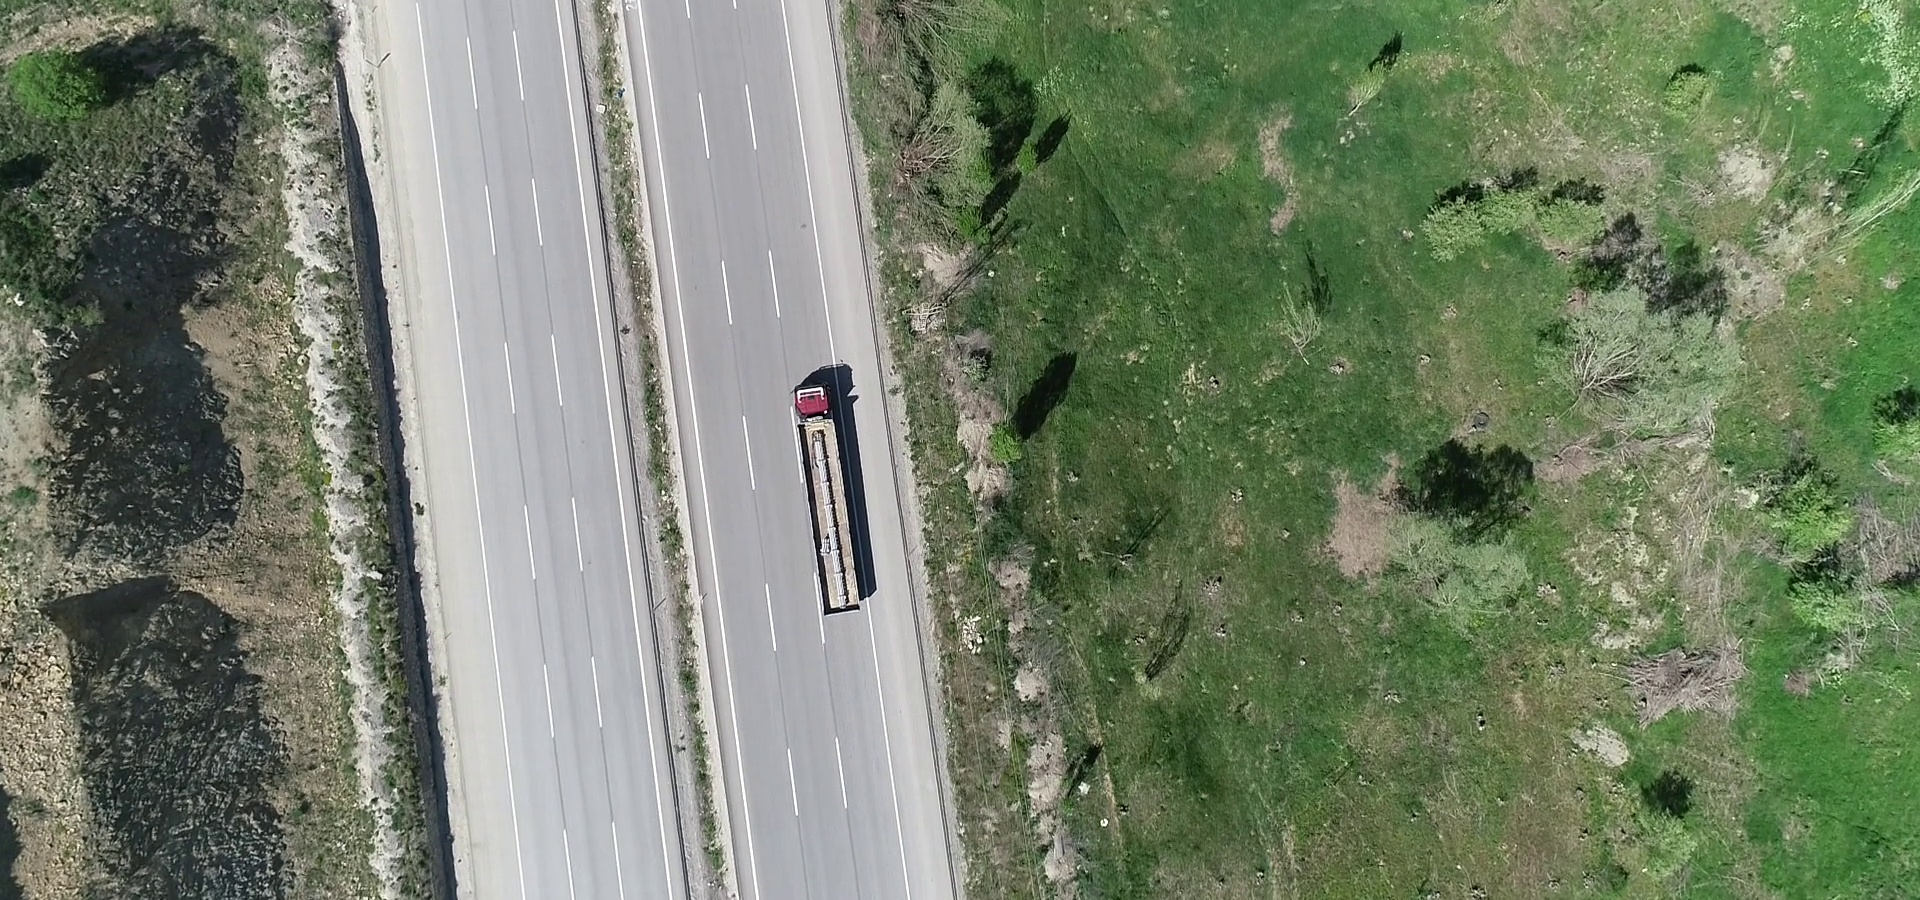kamyon: (787, 383, 871, 624)
